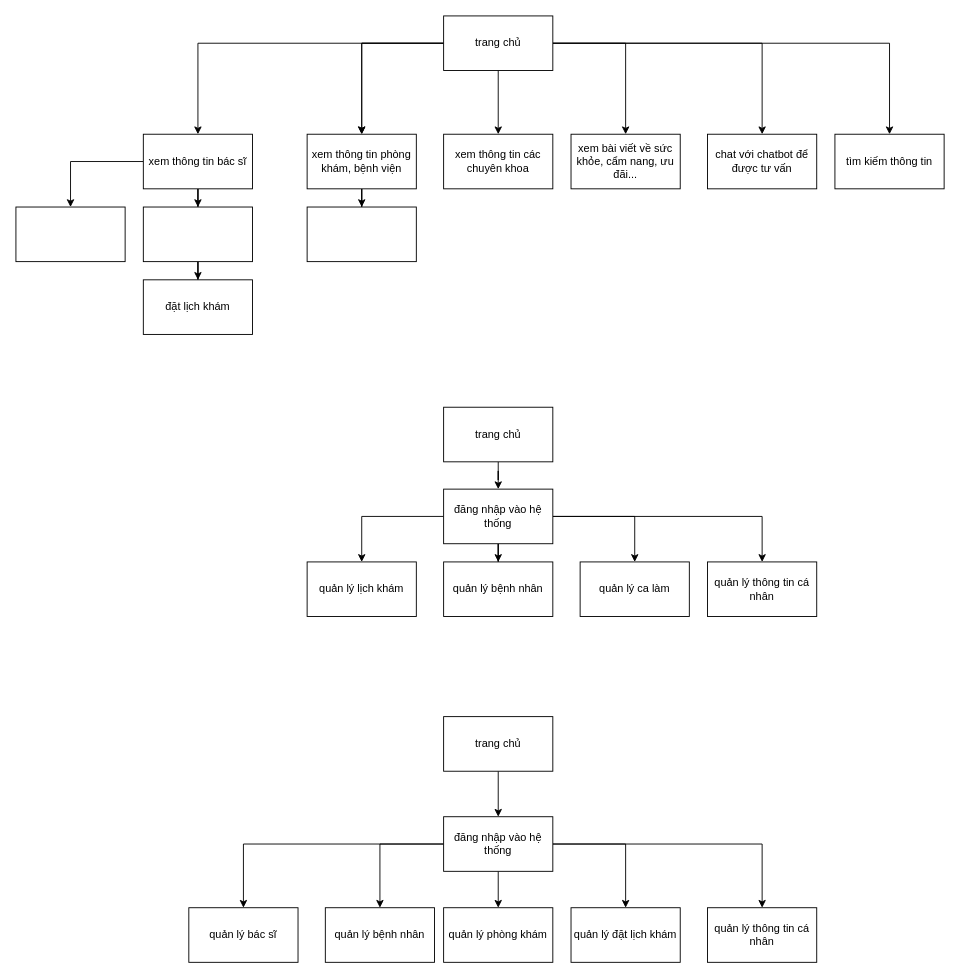
Some shapes in this 960 by 978 pixel diagram are drawn without their labels. Each missing label, with the box of its shape:
bình luận, phản hồi: (15, 206, 125, 262)
chọn lịch khám: (142, 206, 253, 262)
xem thông tin theo chuyên khoa, bác sĩ, ...: (306, 206, 416, 262)
